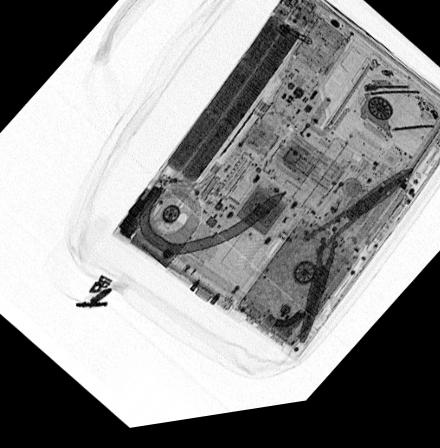Scissors: (240, 175, 415, 315), (295, 244, 338, 358)
